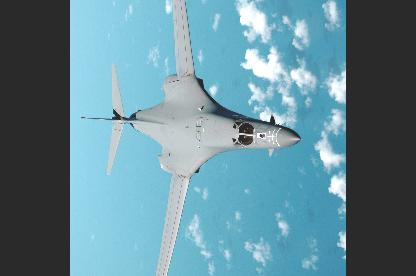AV8B: (78, 0, 302, 273)
